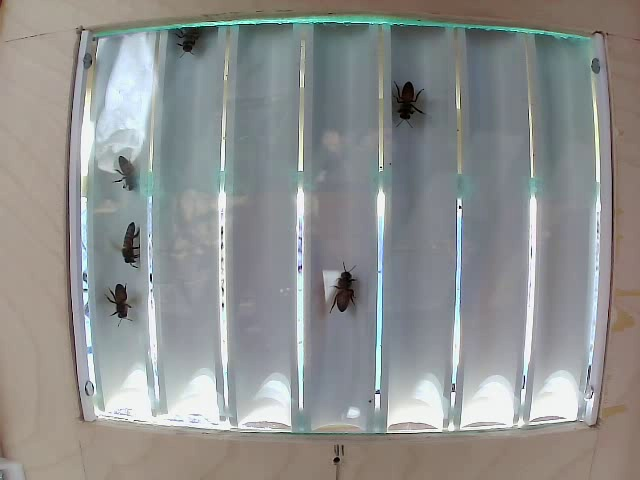bee: (323, 264, 374, 330), (111, 152, 160, 203), (390, 74, 427, 126), (114, 224, 152, 270), (103, 292, 136, 340)
